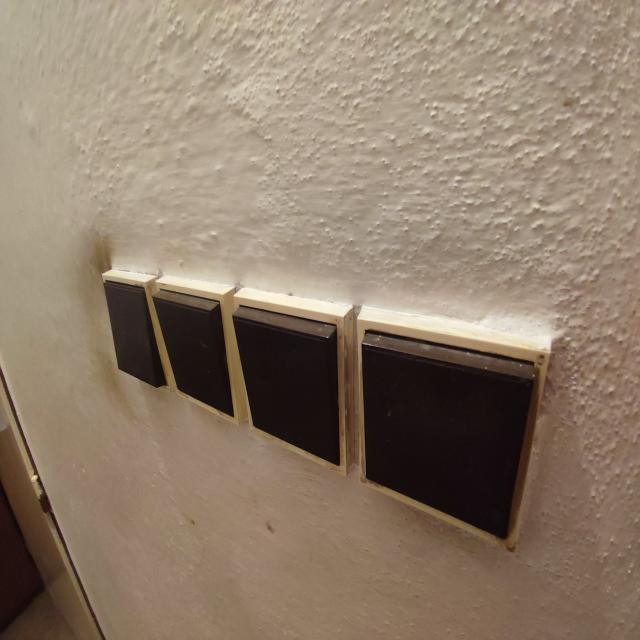house switch: (357, 305, 552, 553), (232, 288, 356, 476), (152, 276, 248, 425), (102, 269, 175, 392)
